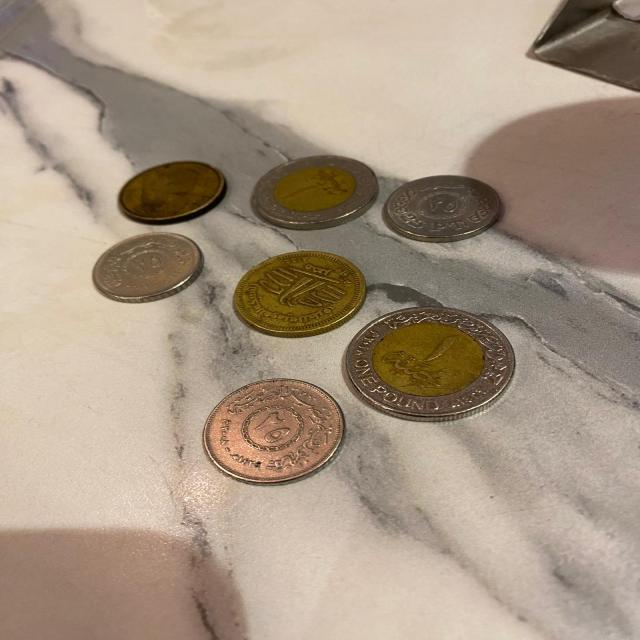Half Pound: (227, 246, 369, 338), (115, 148, 228, 226)
One Pound: (341, 296, 528, 434), (241, 146, 394, 236)
quarter pound: (192, 369, 354, 489), (77, 224, 212, 308), (378, 174, 510, 243)
